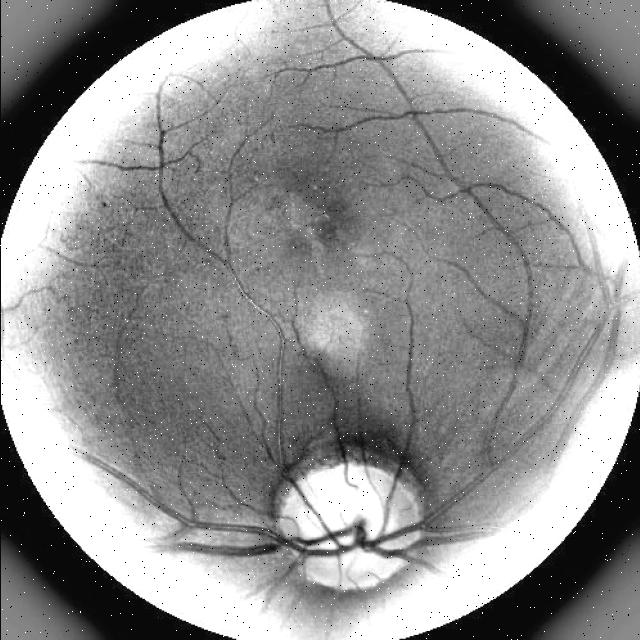Macula: (283, 186, 331, 235)
Optic Disk: (278, 460, 419, 589)
